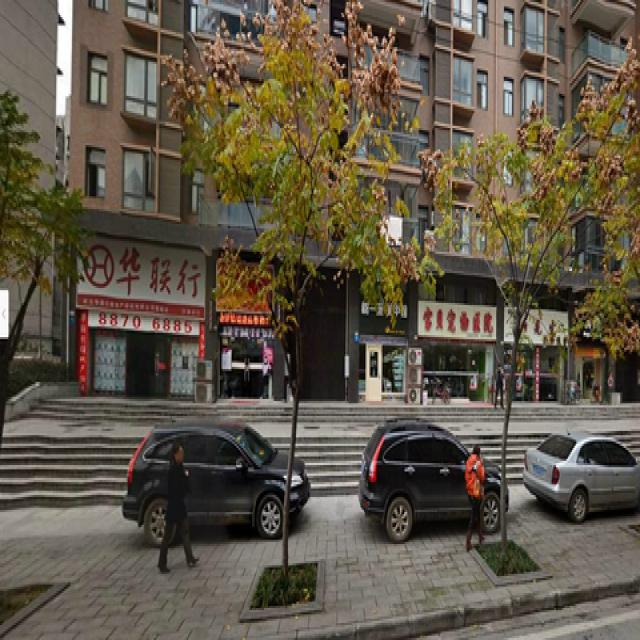koel: (180, 19, 405, 561)
